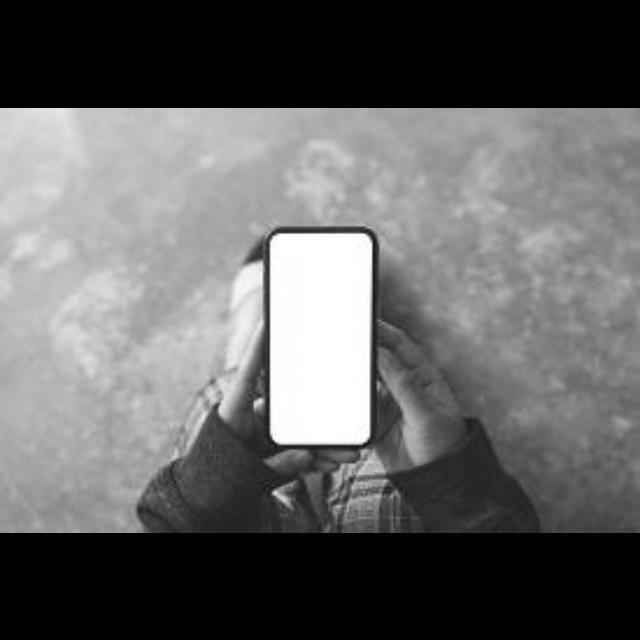fake: (242, 217, 402, 460)
